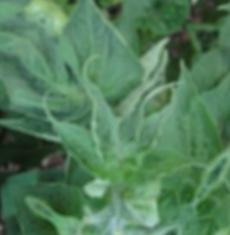Tomato leaf mosaic virus: (20, 0, 174, 123), (112, 60, 230, 206), (42, 55, 156, 169), (23, 95, 132, 189)
